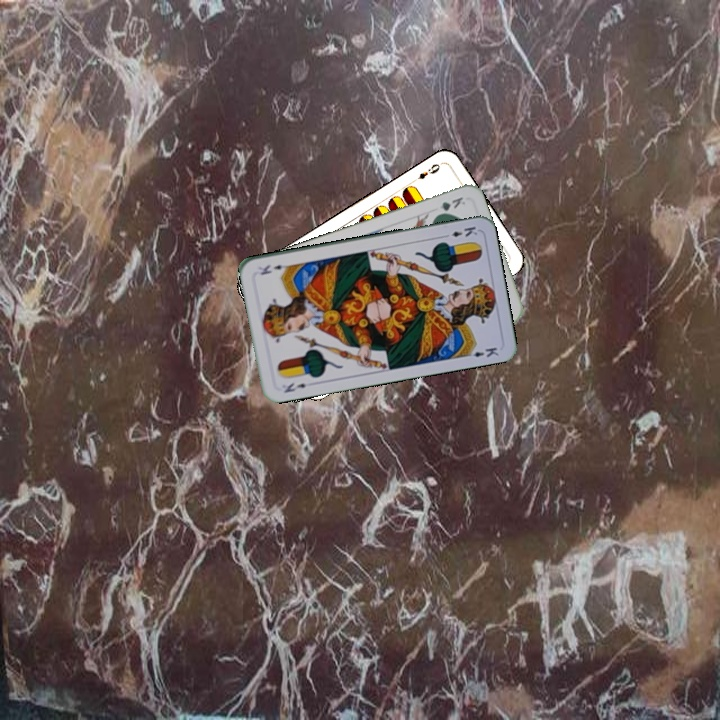E9: (409, 160, 443, 185)
EK: (439, 222, 480, 240), (280, 378, 309, 395)
GK: (431, 193, 468, 219)
